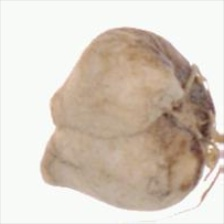L3: (35, 93, 72, 188)
L4: (38, 27, 215, 213)
